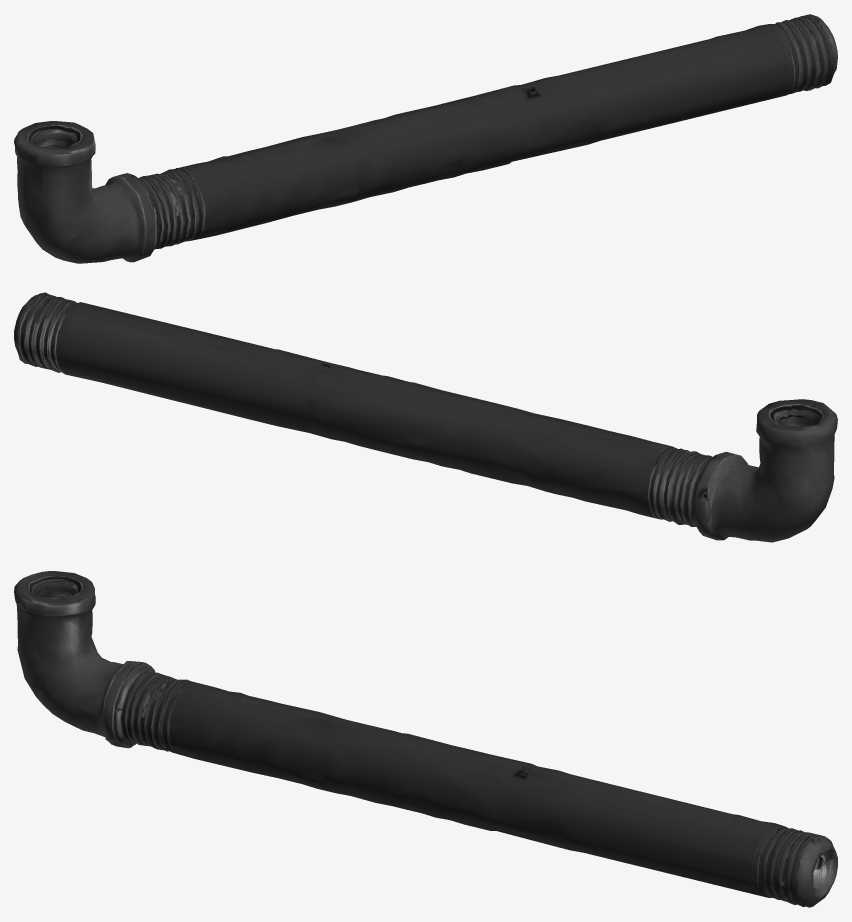
File: Meshy_AI_Steel_plumbing_pipe_w_0502140159_texture.fbx
The picture shows the model from 3 angles, top to bottom: view 1: azimuth 30°, elevation 25°; view 2: azimuth 150°, elevation 25°; view 3: azimuth 330°, elevation 25°; orthographic projection.
Parts seen in each view (by area): view 1: Mesh1.0; view 2: Mesh1.0; view 3: Mesh1.0.
Boxes of the visible parts, x1,y1,x2,y2 form: Mesh1.0: (14,14,837,263); Mesh1.0: (14,292,837,542); Mesh1.0: (14,571,837,907).
Size of the model in its own units: 192 by 32.1 by 17.91.
Materials: 1 (1 with a texture image).
